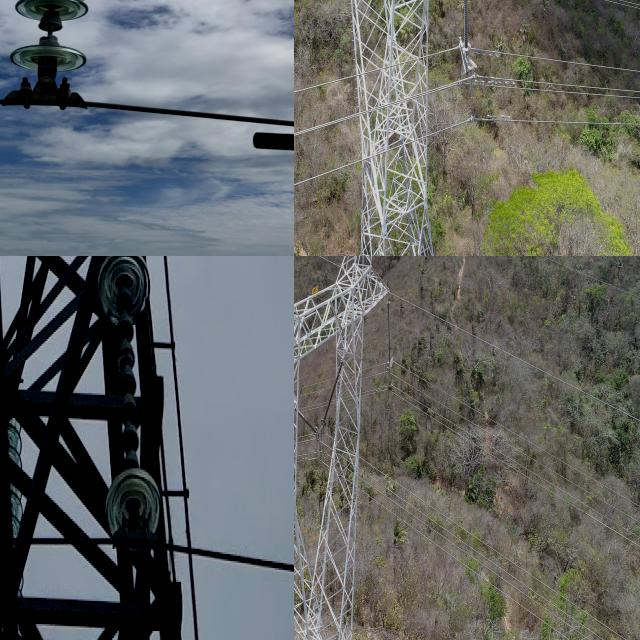杆塔: (0, 256, 226, 640), (294, 256, 393, 640), (354, 0, 434, 256)
正常电缆: (0, 525, 294, 590), (431, 109, 640, 143), (481, 69, 640, 103), (483, 49, 640, 76), (294, 151, 359, 195), (294, 107, 357, 143), (294, 67, 353, 101)
正常绝缘子: (97, 256, 162, 562), (4, 0, 101, 108), (320, 357, 346, 427), (454, 0, 474, 81), (294, 402, 318, 437), (386, 300, 392, 363)
绝缘子破损: (115, 342, 137, 374), (36, 17, 64, 41), (114, 314, 136, 344), (114, 290, 136, 319), (118, 370, 138, 399), (120, 429, 140, 457), (118, 401, 139, 427)
